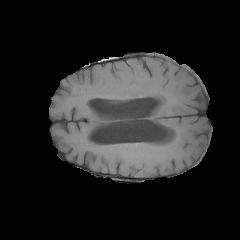glioma: (82, 134, 179, 162)
